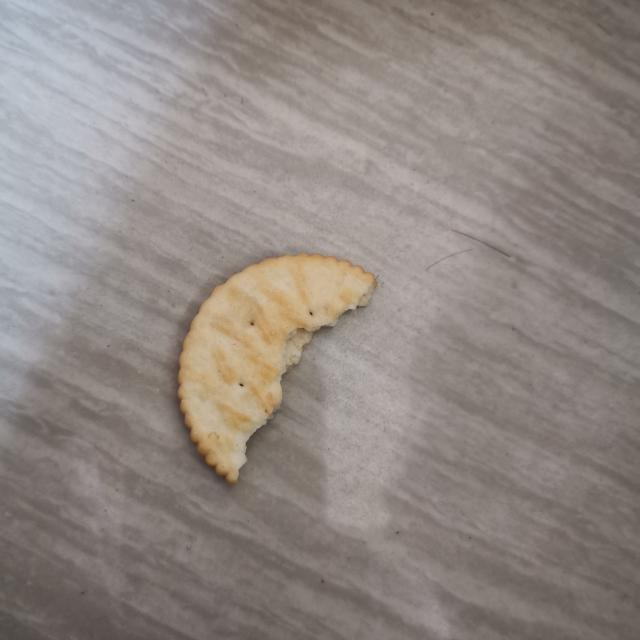Broken: (176, 251, 378, 485)
